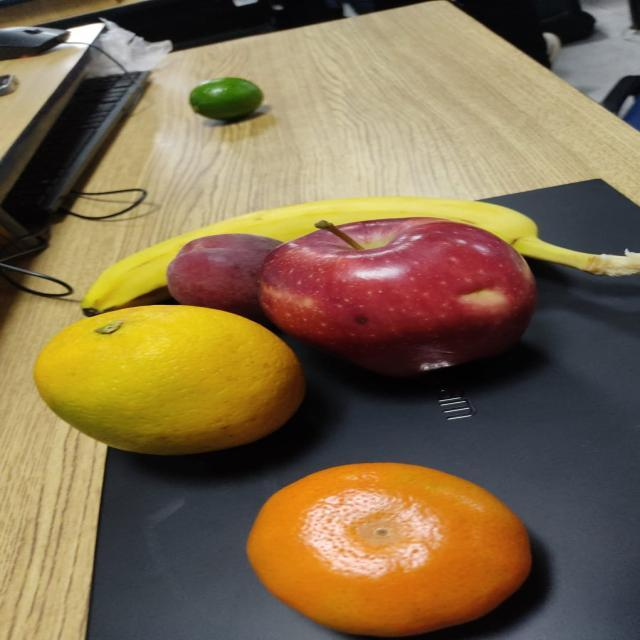Apel Merah: (258, 214, 538, 389)
Jeruk: (32, 303, 303, 457)
Jeruk Mandarin: (240, 462, 538, 640)
Lemon: (186, 77, 264, 121)
Persik: (168, 234, 320, 322)
Pisang: (76, 193, 640, 321)
